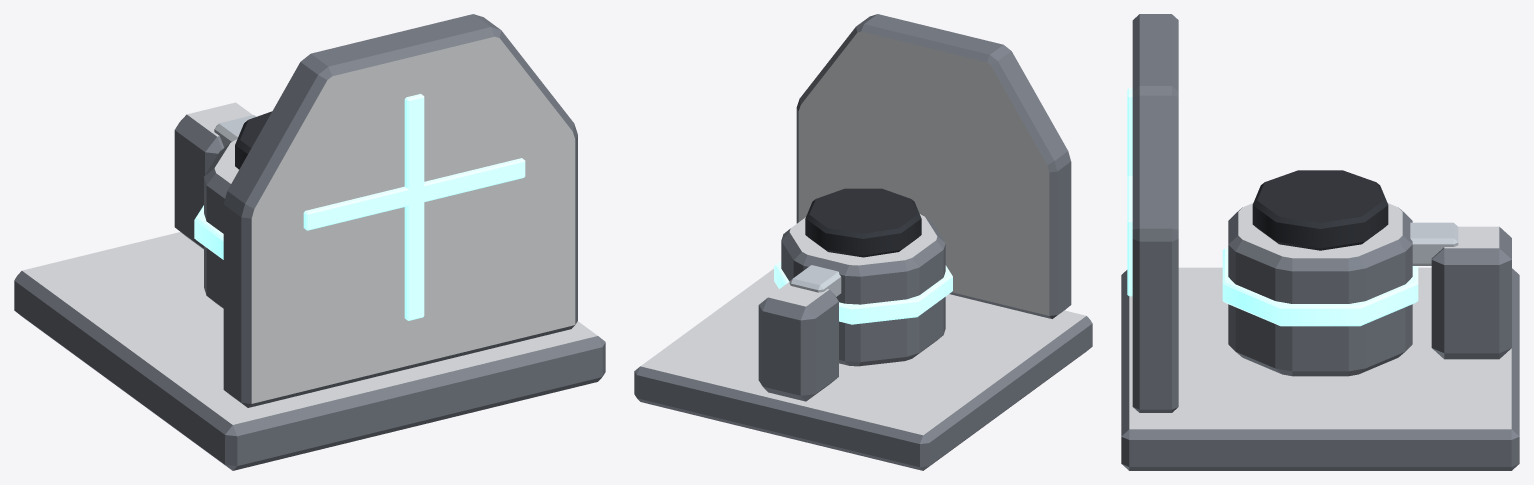
Rendered from R4X_DefensiveTurretDeployer_LOD1.fbx.
The picture shows the model from 3 angles, left to right: view 1: azimuth 30°, elevation 25°; view 2: azimuth 150°, elevation 25°; view 3: azimuth 270°, elevation 25°; orthographic projection. The views are drawn at different scales.
Parts seen in each view (by area): view 1: R4X_DefensiveTurretDeployer_LOD1; view 2: R4X_DefensiveTurretDeployer_LOD1; view 3: R4X_DefensiveTurretDeployer_LOD1.
Boxes of the visible parts, bbox=[...] form: R4X_DefensiveTurretDeployer_LOD1: bbox=[14, 14, 605, 470]; R4X_DefensiveTurretDeployer_LOD1: bbox=[634, 14, 1092, 470]; R4X_DefensiveTurretDeployer_LOD1: bbox=[1121, 14, 1519, 470].
Size of the model in its own units: 0.52 by 0.49 by 0.52.
